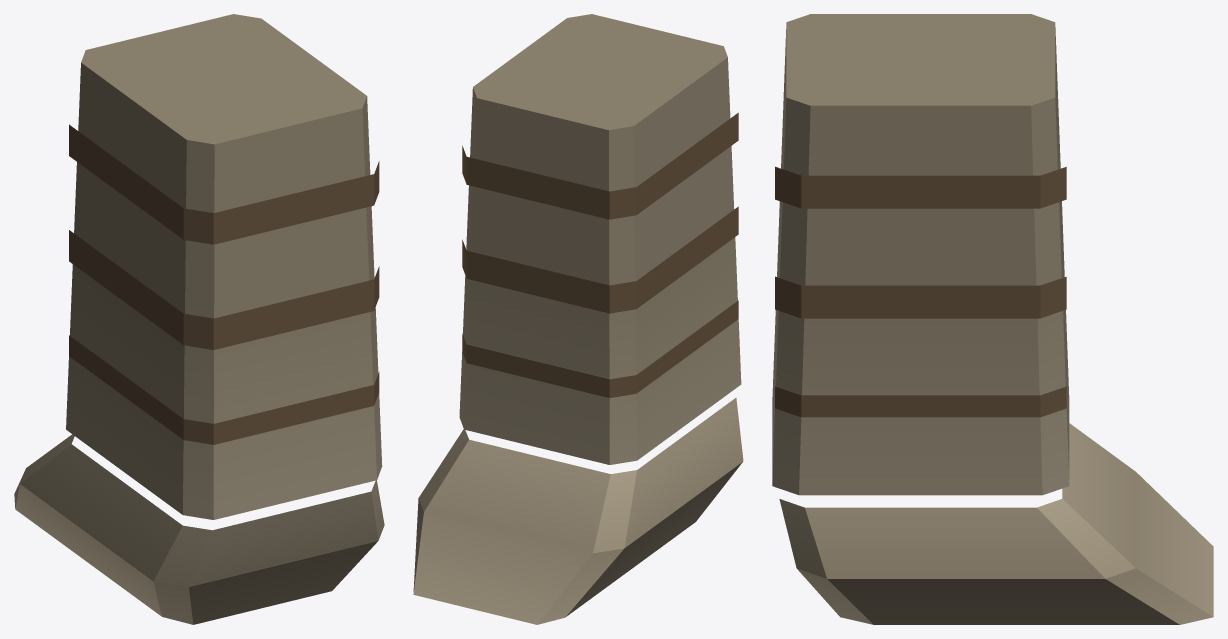
The picture shows the model from 3 angles, left to right: view 1: azimuth 30°, elevation 25°; view 2: azimuth 150°, elevation 25°; view 3: azimuth 270°, elevation 25°; orthographic projection. The views are drawn at different scales.
Parts seen in each view (by area): view 1: padded_wraps; view 2: padded_wraps; view 3: padded_wraps.
Part boxes in pixels (x1,y1,x2,y2): padded_wraps: (14, 14, 384, 624); padded_wraps: (413, 14, 743, 624); padded_wraps: (772, 14, 1213, 624).
Bounding box in the file's own units: 0.1837 × 0.38 × 0.2912.
